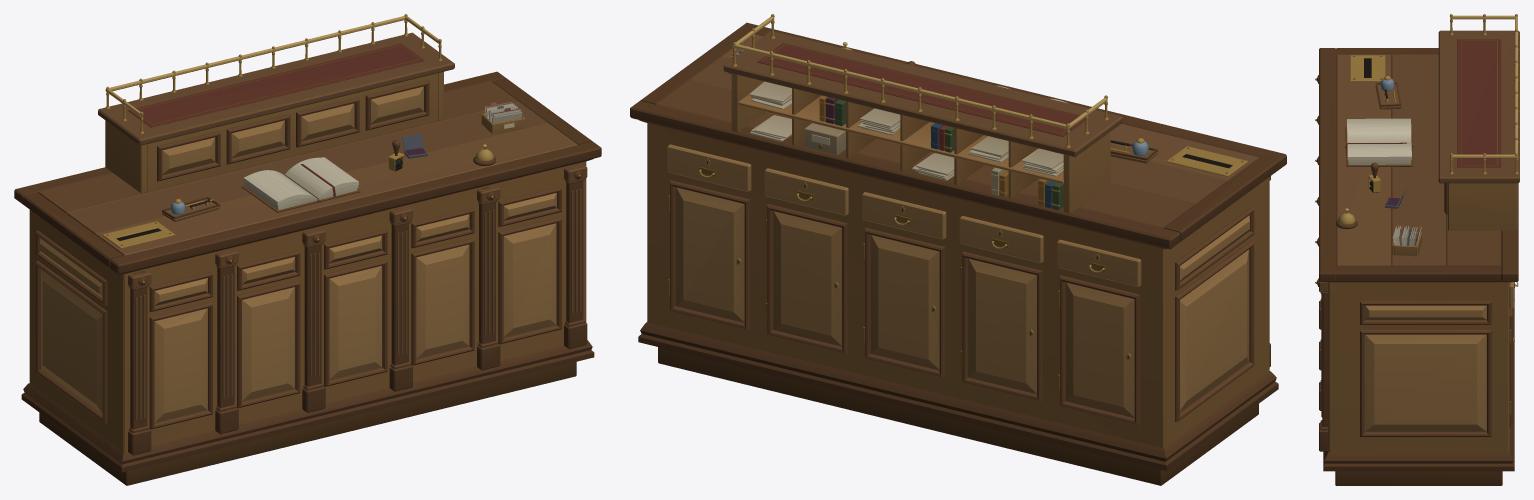
Rendered from issue-desk.glb.
3 views of the same model, side by side, from view 1: azimuth 30°, elevation 25°; view 2: azimuth 150°, elevation 25°; view 3: azimuth 270°, elevation 25° (orthographic). The views are drawn at different scales.
Parts seen in each view (by area): view 1: issue_desk; view 2: issue_desk; view 3: issue_desk.
Boxes of the visible parts, <box> form: issue_desk: <box>14,14,601,485</box>; issue_desk: <box>630,14,1286,485</box>; issue_desk: <box>1315,14,1519,485</box>.
Size of the model in its own units: 2.3 by 1.41 by 0.8821.
